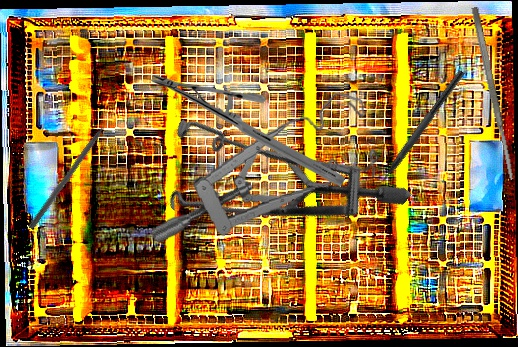Chopper: (367, 63, 465, 194)
Needle Holder: (151, 72, 345, 187)
Pusher: (27, 108, 120, 232)
Spatula Surgical: (470, 6, 516, 181)
Speculum: (134, 48, 412, 322), (139, 90, 385, 244)
